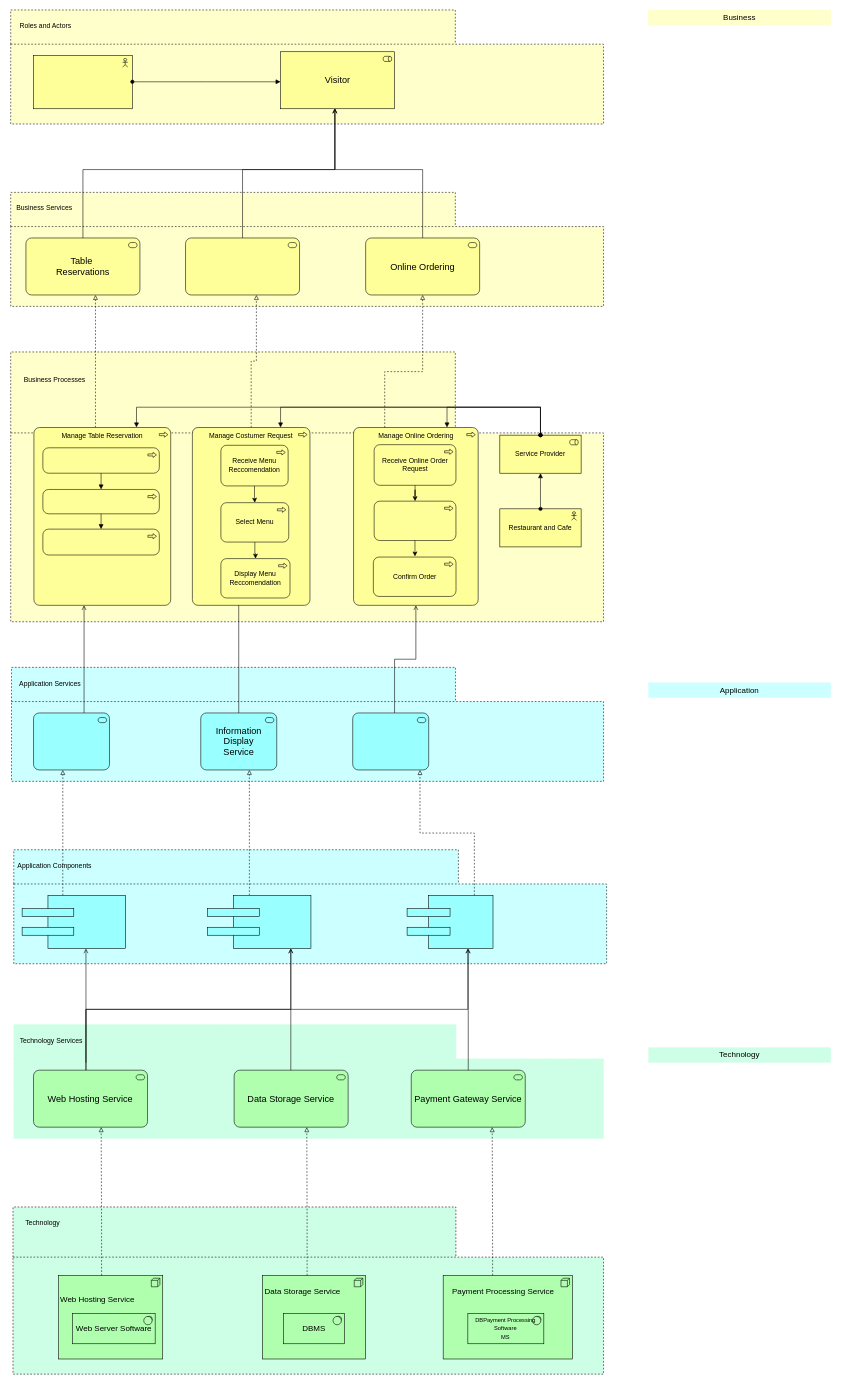
Some shapes in this 841 by 1385 pixel diagram are drawn without their labels. Each missing label, with the centre of its shape:
"Confirm Reservation" goes at point 100,542.
"Menu Information System" goes at point 259,922.
"Menu Recommendations" goes at point 242,266.
"Online Ordering Service" goes at point 390,741.
"Order Management System" goes at point 450,922.
"Receive Reservation Request" goes at point 100,460.
"Reservation Management System" goes at point 73,922.
"Reservation Processing Service" goes at point 71,741.
"Send to Kitchen" goes at point 415,521.
"User" goes at point 82,82.
"Verify Table Availability" goes at point 100,501.
